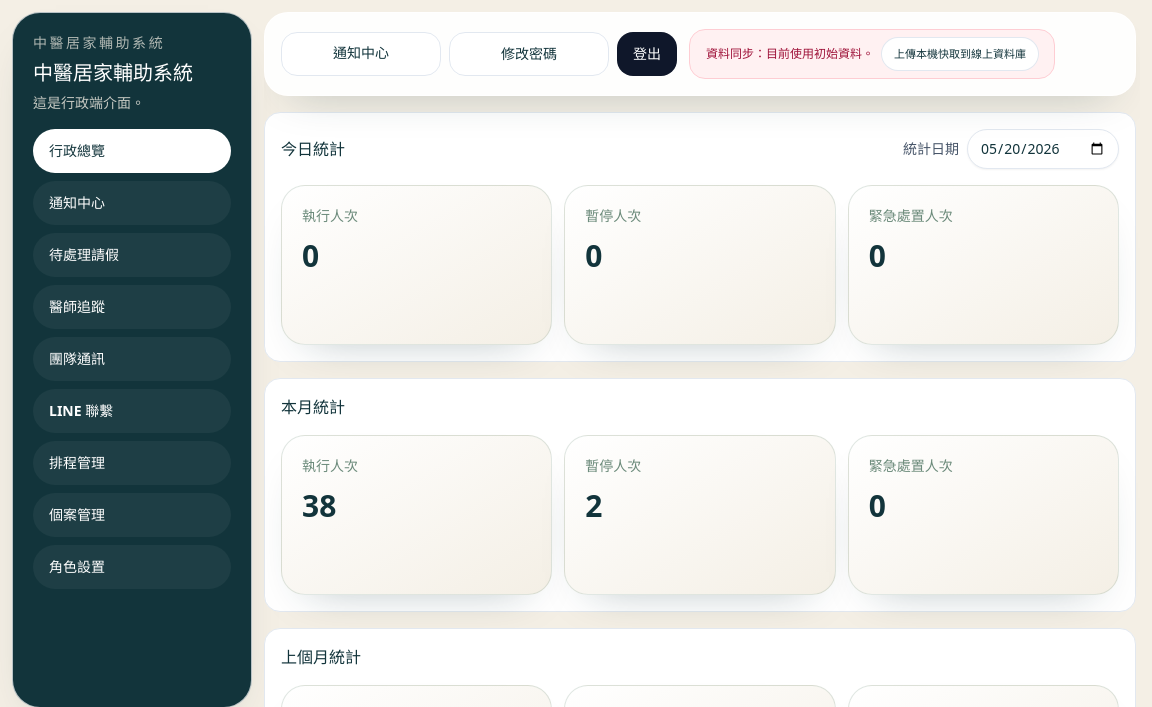
it: AppShell › 行政頁可登出回到首頁，且不再顯示角色切換
Click the button "登出" at (647, 54), box [617,32,677,76]
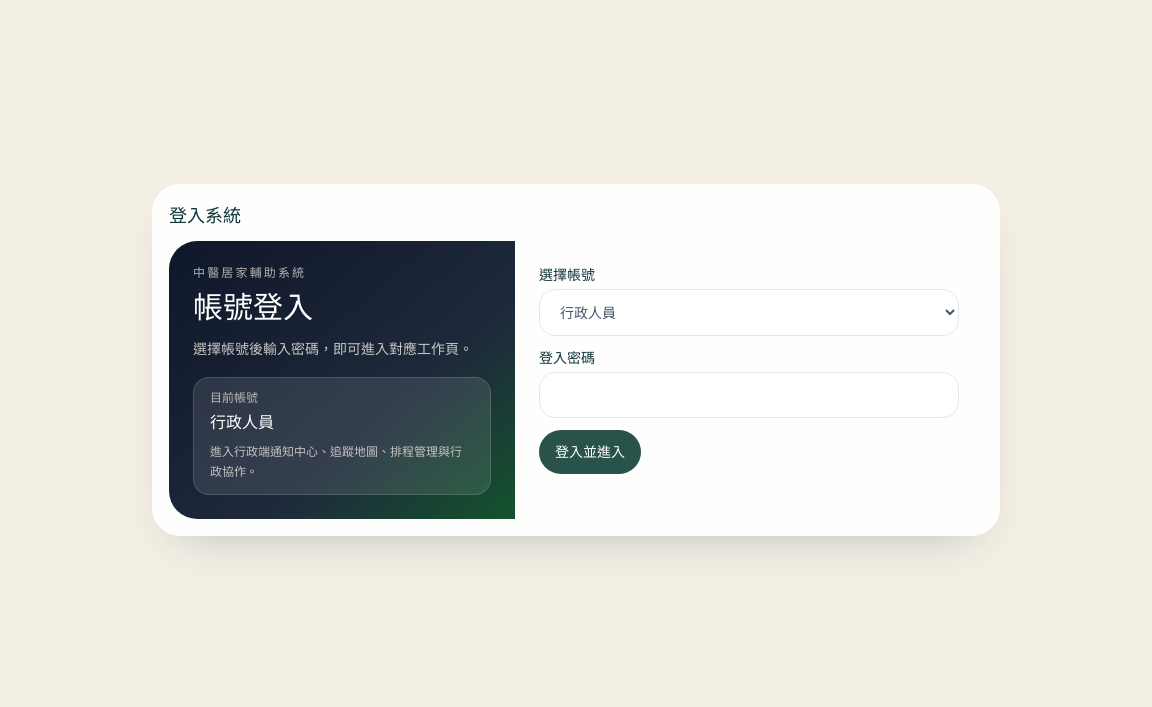
Now the heading "登入系統" is shown, box [169,201,241,229]
Now the dropdown labelled "選擇帳號" is shown, box [539,289,959,336]
Now the button "登入並進入" is shown, box [539,430,641,474]
